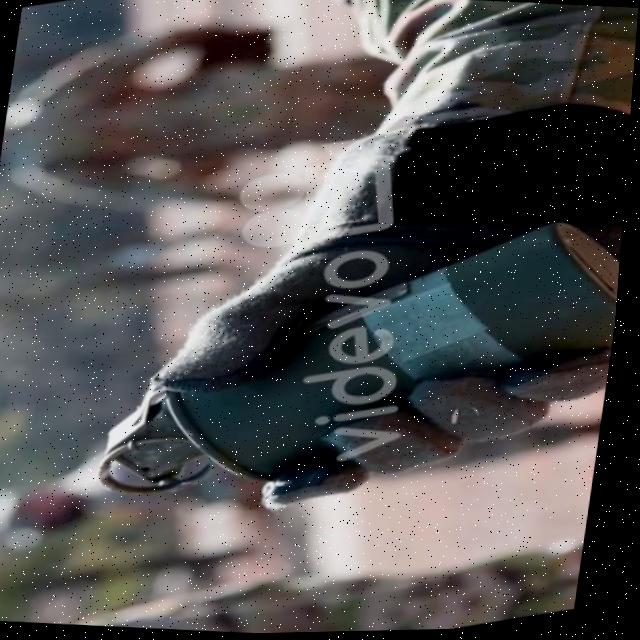grenade: (51, 172, 629, 555)
